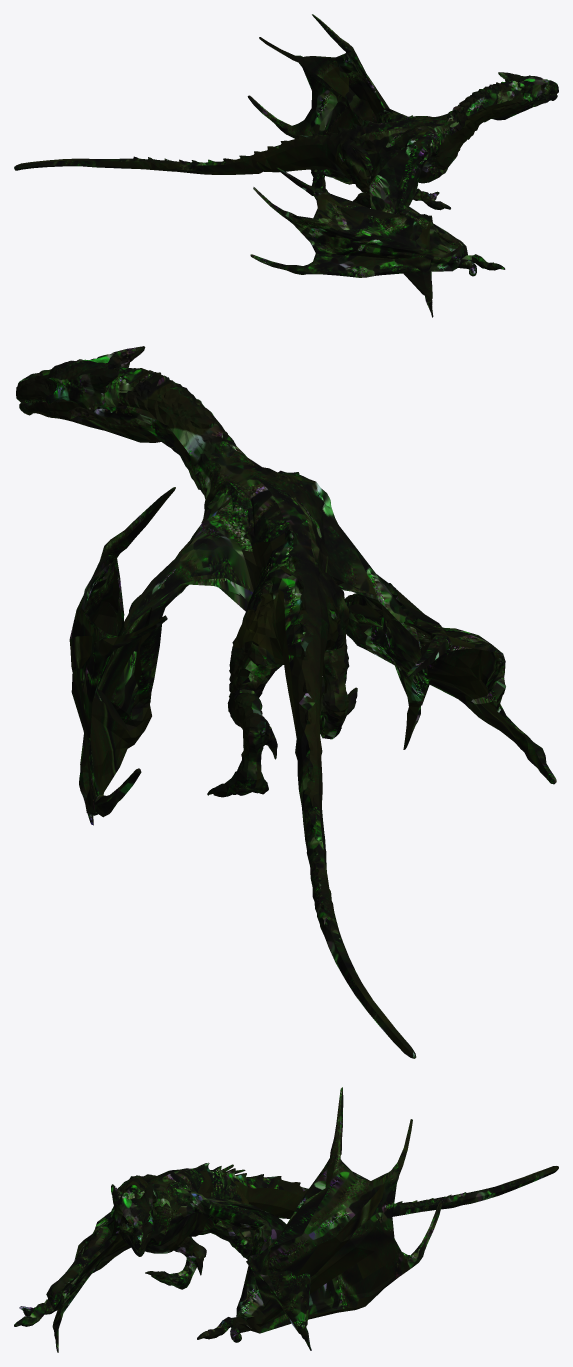
The model's file is frame_0026_uv.obj.
The picture shows the model from 3 angles, top to bottom: view 1: azimuth 30°, elevation 25°; view 2: azimuth 150°, elevation 25°; view 3: azimuth 270°, elevation 25°; orthographic projection. The views are drawn at different scales.
Visible parts, largest first — view 1: pMesh1; view 2: pMesh1; view 3: pMesh1.
Part boxes in pixels (box(x1,y1,x2,y2)): pMesh1: box(14, 14, 558, 317); pMesh1: box(16, 346, 556, 1058); pMesh1: box(14, 1087, 558, 1352).
Bounding box in the file's own units: 1.67 × 0.9353 × 1.75.
